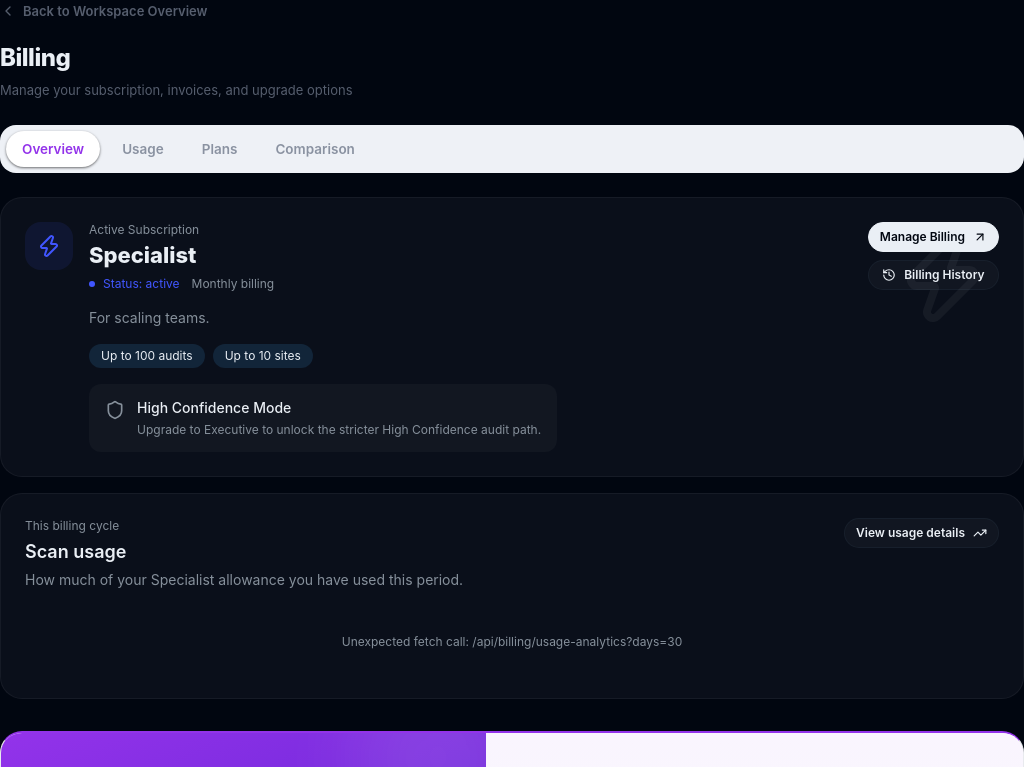
Test: BillingPage › the Executive card (SIGV2-1211) › quotes no monthly figure, and does not fall back to Free
The width and height of the screenshot is (1024, 767).
Expected: the text "Active Subscription" is shown, [89, 222, 199, 236]
Click the tab "Plans" at (220, 148), box [186, 130, 253, 166]
(page scrolled)
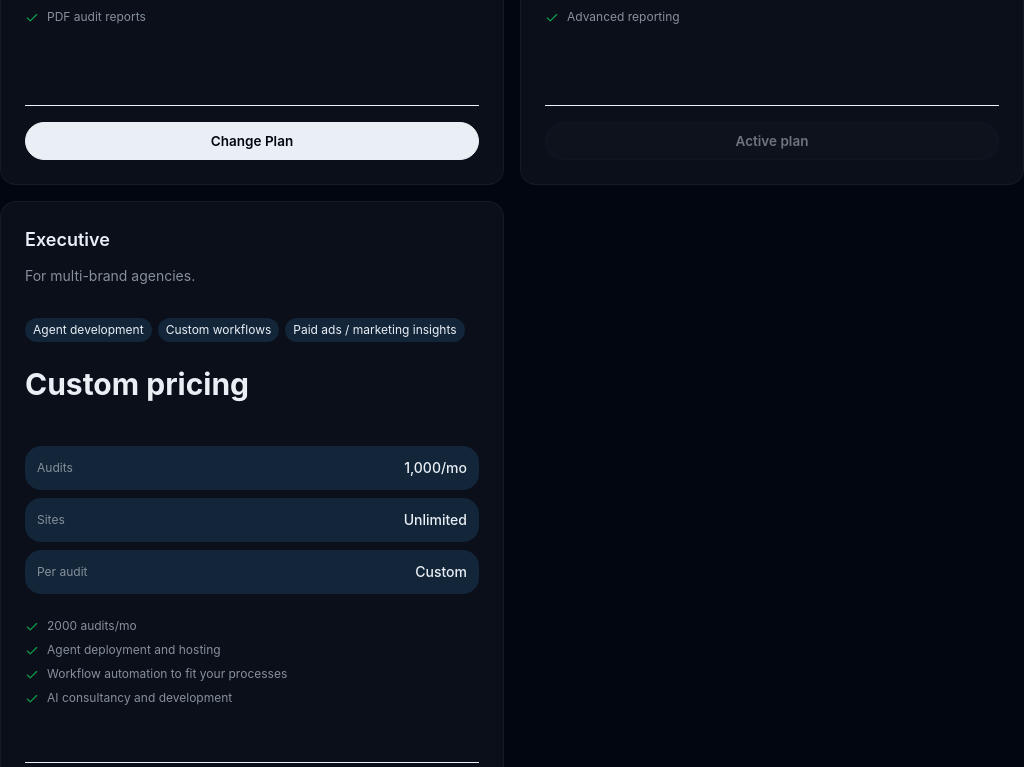
Now the text "Custom pricing" is shown, box [25, 366, 249, 402]
